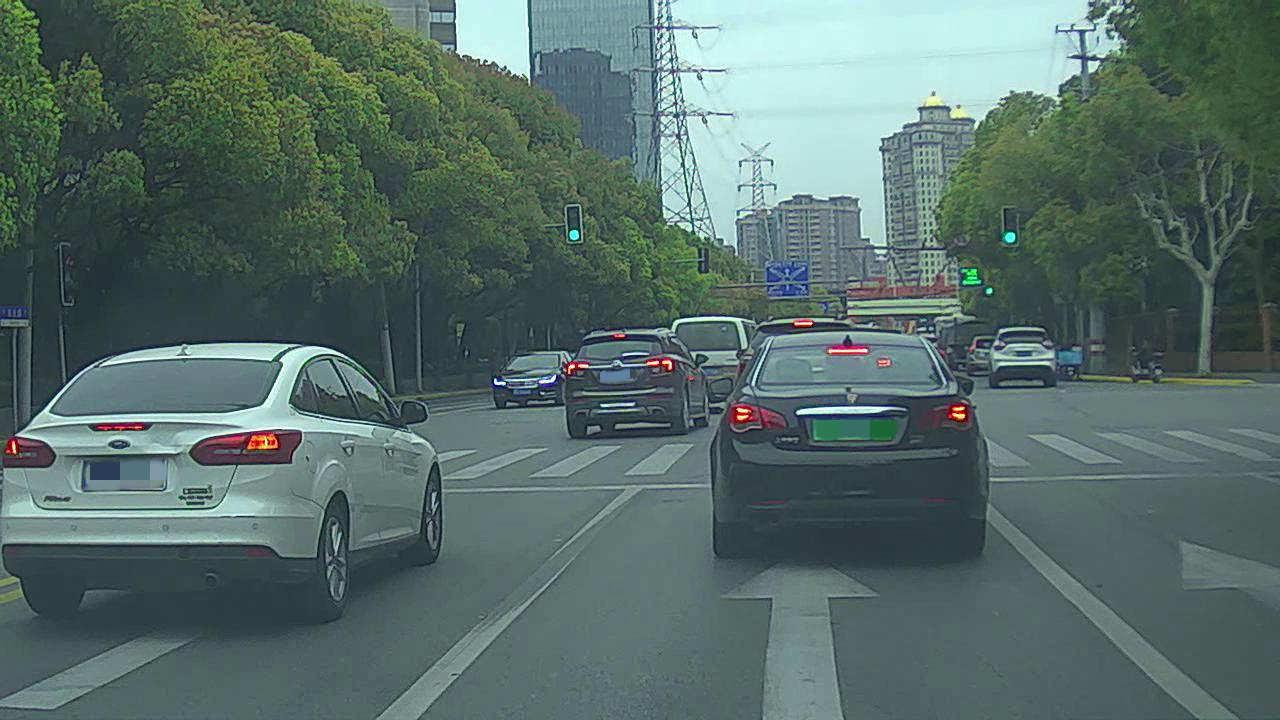traffic_light: (562, 200, 586, 244), (1002, 204, 1022, 247)
